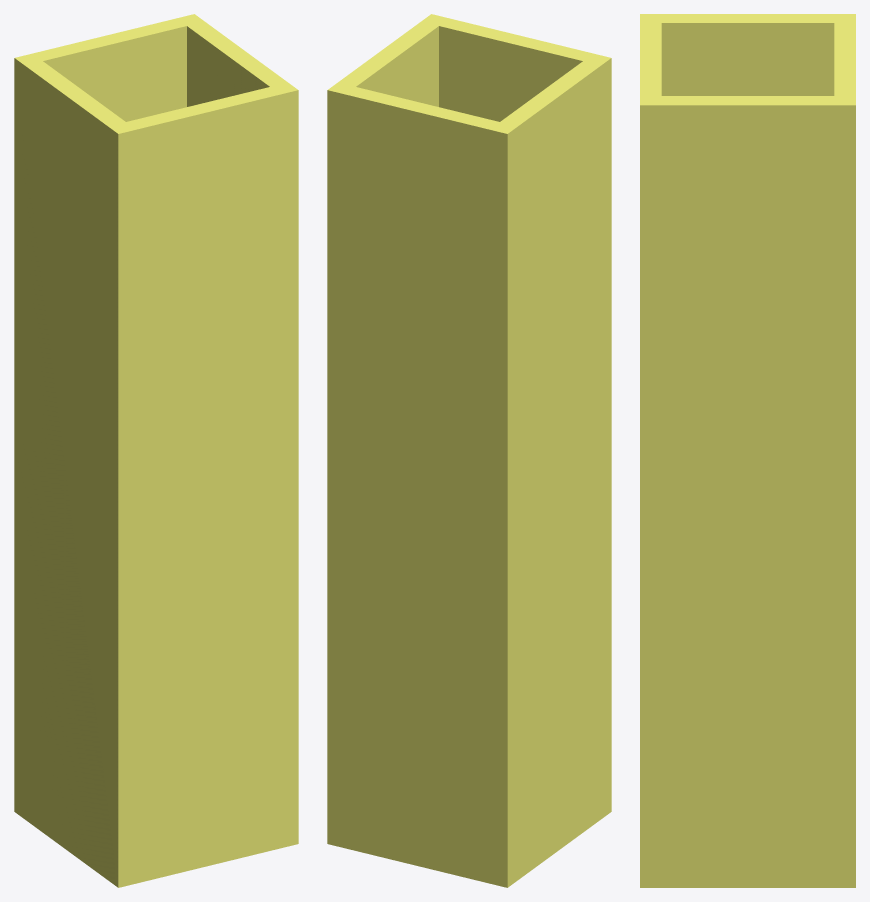
The model's file is control_cell.dae.
The picture shows the model from 3 angles, left to right: view 1: azimuth 30°, elevation 25°; view 2: azimuth 150°, elevation 25°; view 3: azimuth 270°, elevation 25°; orthographic projection. The views are drawn at different scales.
Parts seen in each view (by area): view 1: control_cell; view 2: control_cell; view 3: control_cell.
Part boxes in pixels (left/top/right/bottom): control_cell: left=14, top=14, right=298, bottom=887; control_cell: left=327, top=14, right=611, bottom=887; control_cell: left=640, top=14, right=855, bottom=887.
Bounding box in the file's own units: 1 × 1 × 4.
